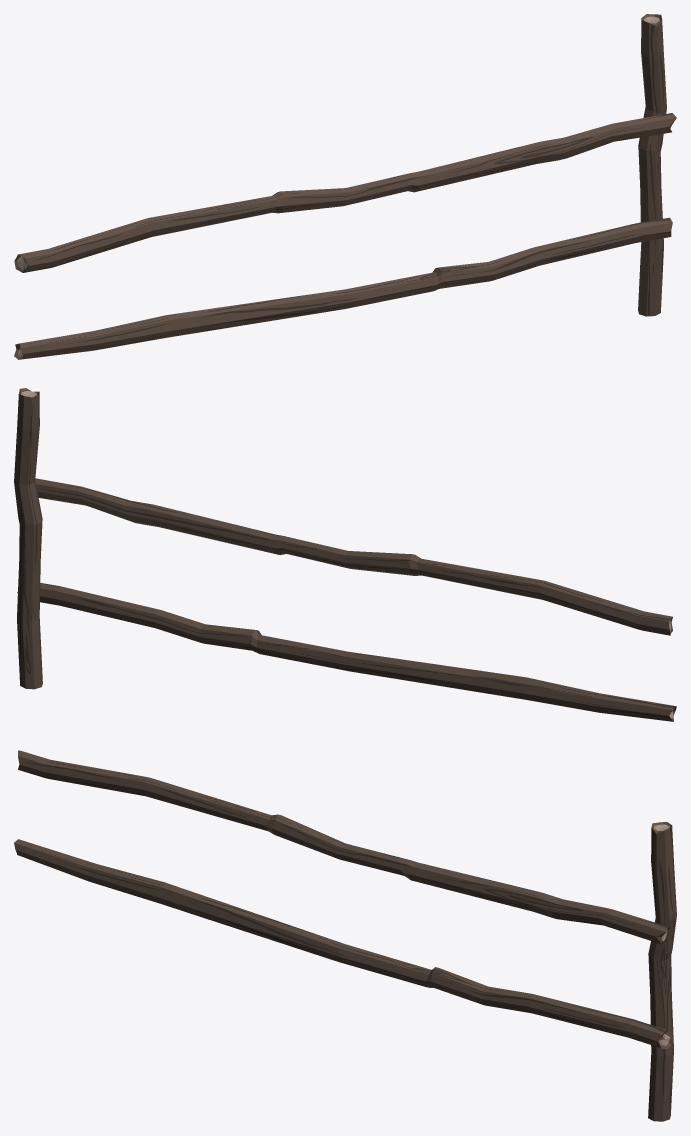
The model's file is fence_2.fbx.
3 renders of one model, top to bottom at view 1: azimuth 30°, elevation 25°; view 2: azimuth 150°, elevation 25°; view 3: azimuth 330°, elevation 25°, orthographic.
Parts seen in each view (by area): view 1: fence_2; view 2: fence_2; view 3: fence_2.
Part boxes in pixels (bbox=[...]): fence_2: bbox=[14, 14, 676, 359]; fence_2: bbox=[14, 388, 676, 721]; fence_2: bbox=[14, 750, 676, 1121].
Size of the model in its own units: 392 by 167 by 18.35.
